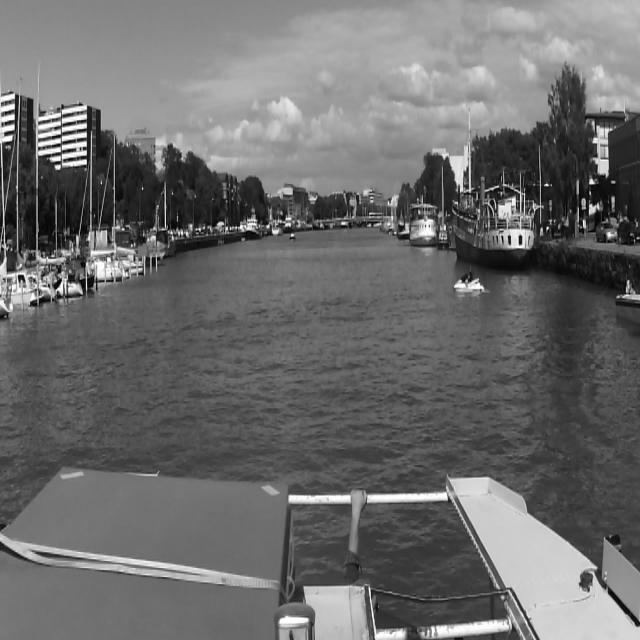ship: (8, 65, 46, 312), (450, 173, 536, 266), (409, 202, 439, 246), (454, 269, 482, 295), (243, 208, 260, 242), (286, 228, 299, 246), (284, 216, 291, 232)
